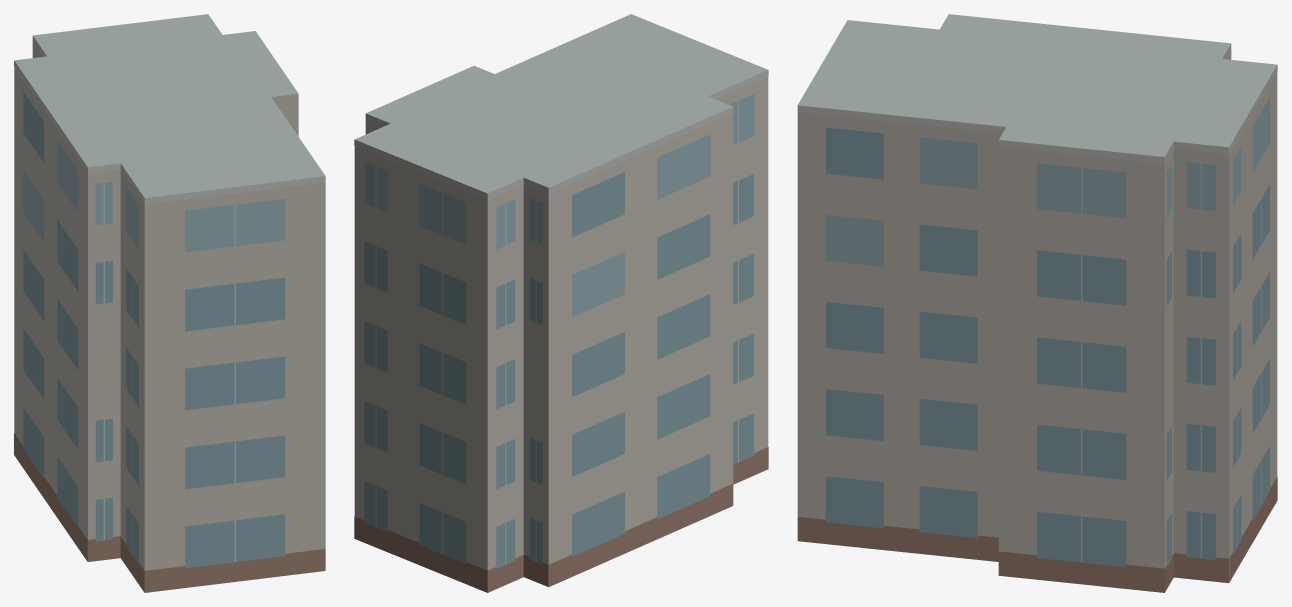
The model's file is survey-upis-32624719.glb.
3 renders of one model, left to right at view 1: azimuth 30°, elevation 25°; view 2: azimuth 150°, elevation 25°; view 3: azimuth 270°, elevation 25°, orthographic. The views are drawn at different scales.
Parts seen in each view (by area): view 1: survey-upis-32624719.tmp; view 2: survey-upis-32624719.tmp; view 3: survey-upis-32624719.tmp.
Boxes of the visible parts, x1,y1,x2,y2 form: survey-upis-32624719.tmp: [14, 14, 325, 592]; survey-upis-32624719.tmp: [354, 14, 768, 592]; survey-upis-32624719.tmp: [797, 14, 1277, 592].
Size of the model in its own units: 10.75 by 15.25 by 15.23.
